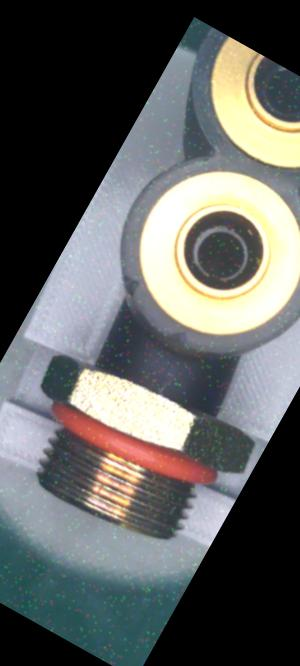bump: (107, 267, 148, 311), (156, 319, 199, 356)
joint line: (160, 350, 178, 372)
white mark: (149, 373, 174, 401)
